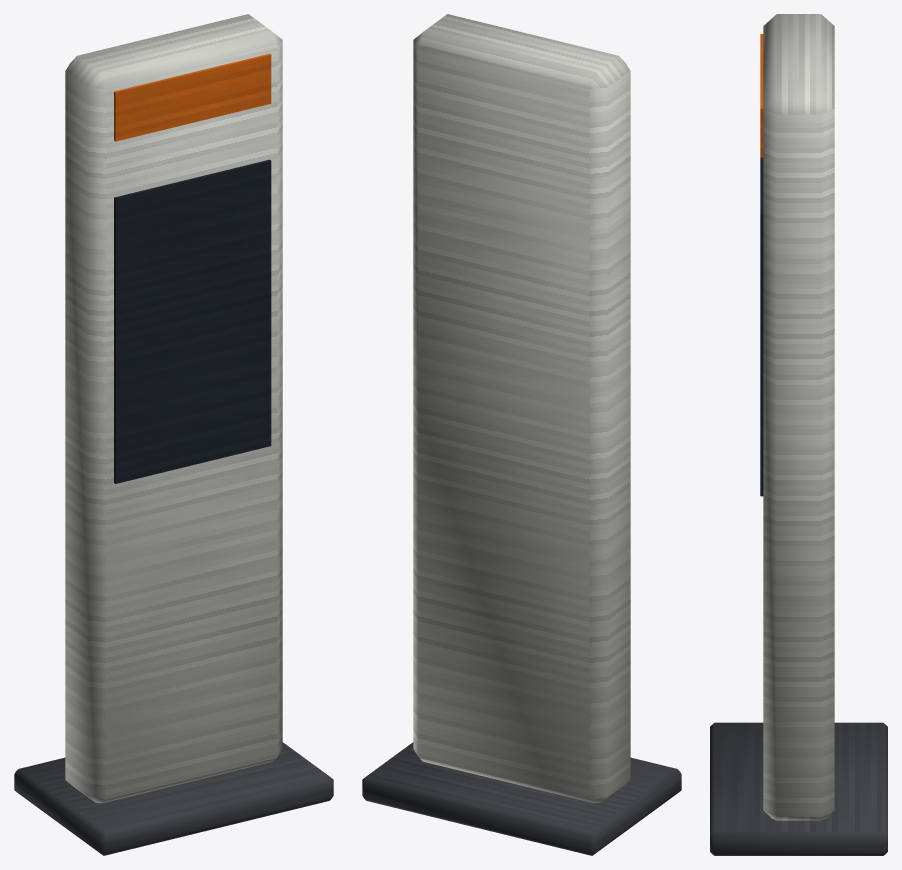
Rendered from totem_informativo.glb.
The picture shows the model from 3 angles, left to right: view 1: azimuth 30°, elevation 25°; view 2: azimuth 150°, elevation 25°; view 3: azimuth 270°, elevation 25°; orthographic projection.
Parts seen in each view (by area): view 1: Inteiro; view 2: Inteiro; view 3: Inteiro.
Part boxes in pixels (x1=…): Inteiro: x1=14, y1=14, x2=333, y2=855; Inteiro: x1=362, y1=14, x2=681, y2=855; Inteiro: x1=710, y1=14, x2=887, y2=855.
Size of the model in its own units: 0.6 by 1.85 by 0.4.
Materials: 1 (1 with a texture image).
